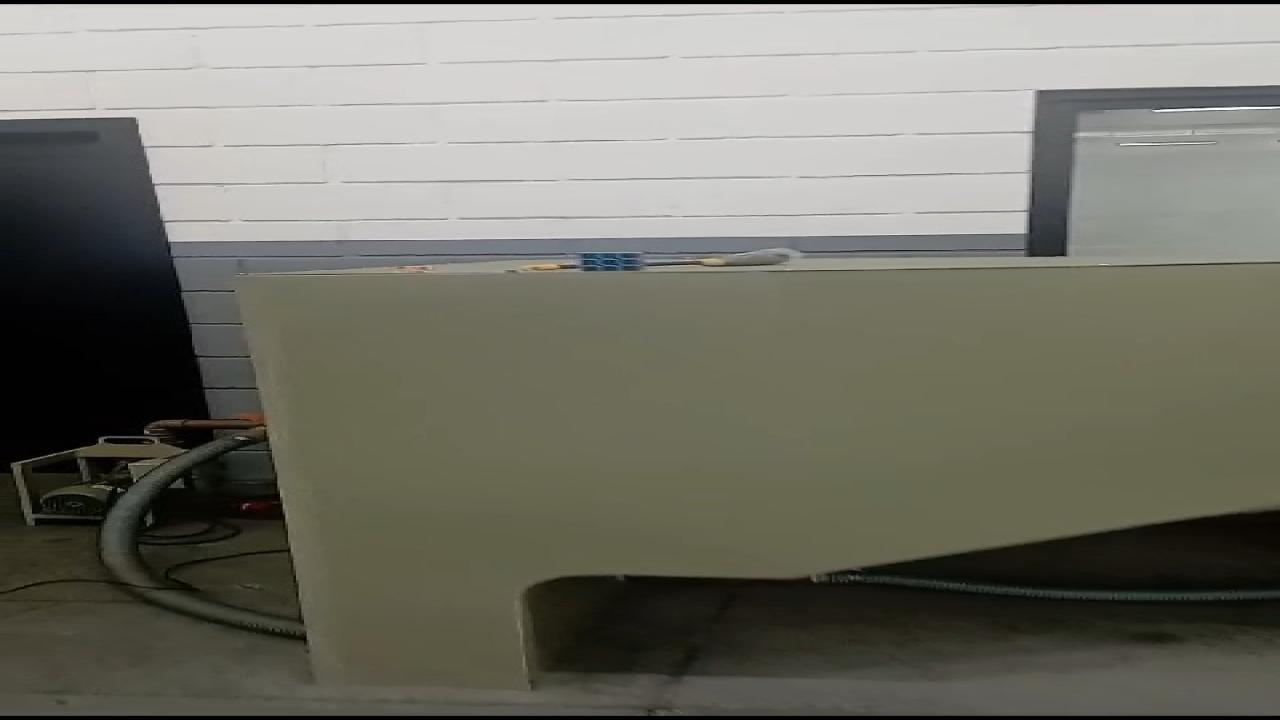Cube: (570, 250, 653, 275)
